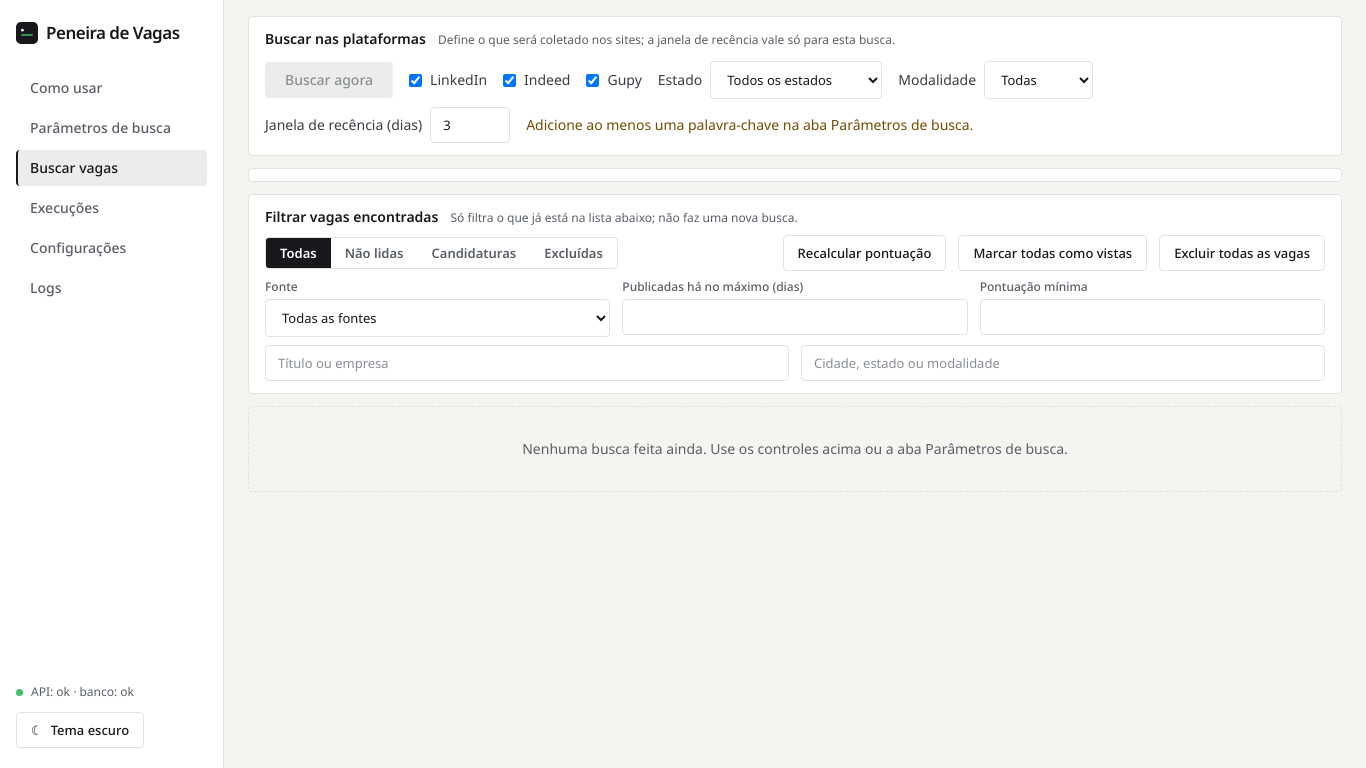
it: App — como usar › tem a aba Como usar
The image size is (1366, 768).
Click the tab "Como usar" at (112, 88), box [16, 70, 207, 106]
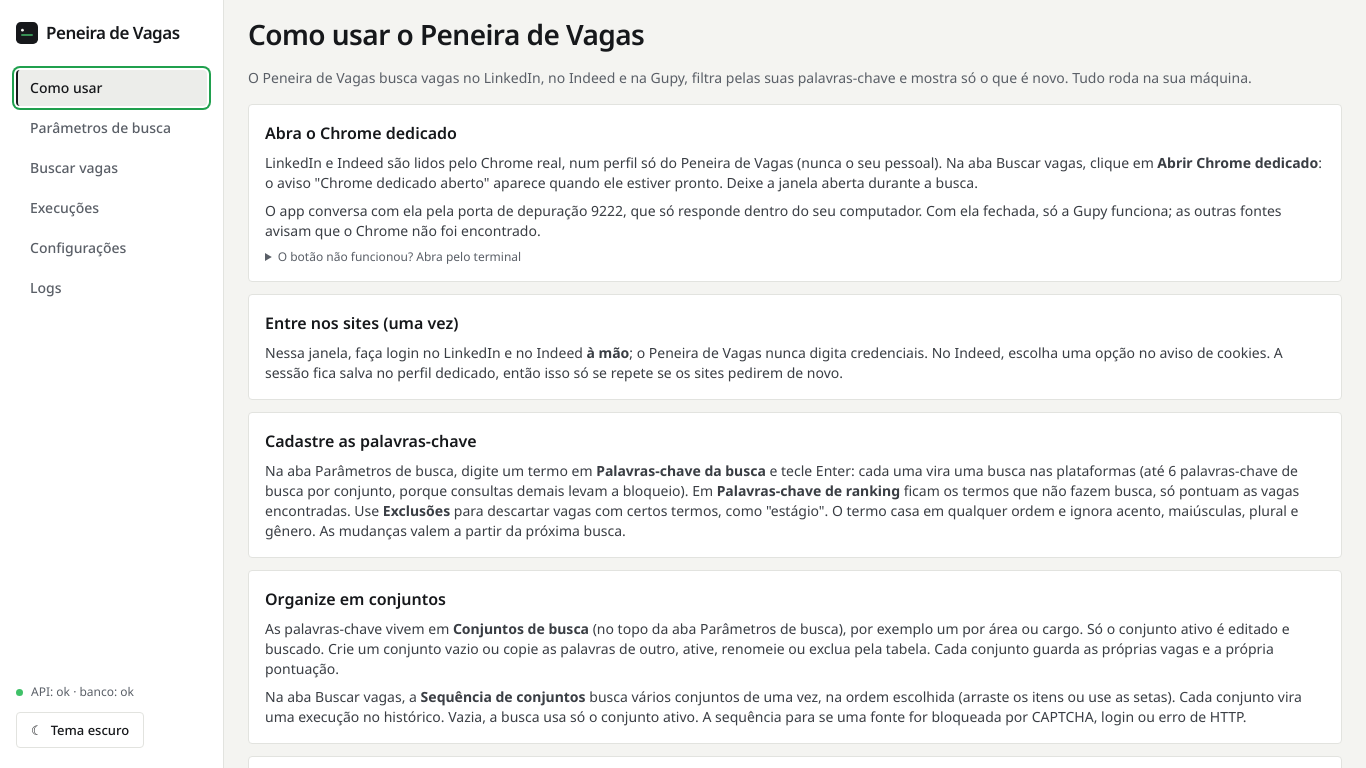
Expected: the heading "Como usar o Peneira de Vagas" is shown, [248, 15, 644, 53]
